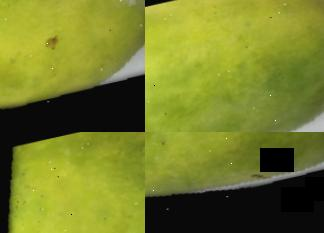PartiallyRipe: (145, 0, 324, 132), (0, 0, 145, 132), (145, 132, 324, 233), (0, 132, 145, 233)
